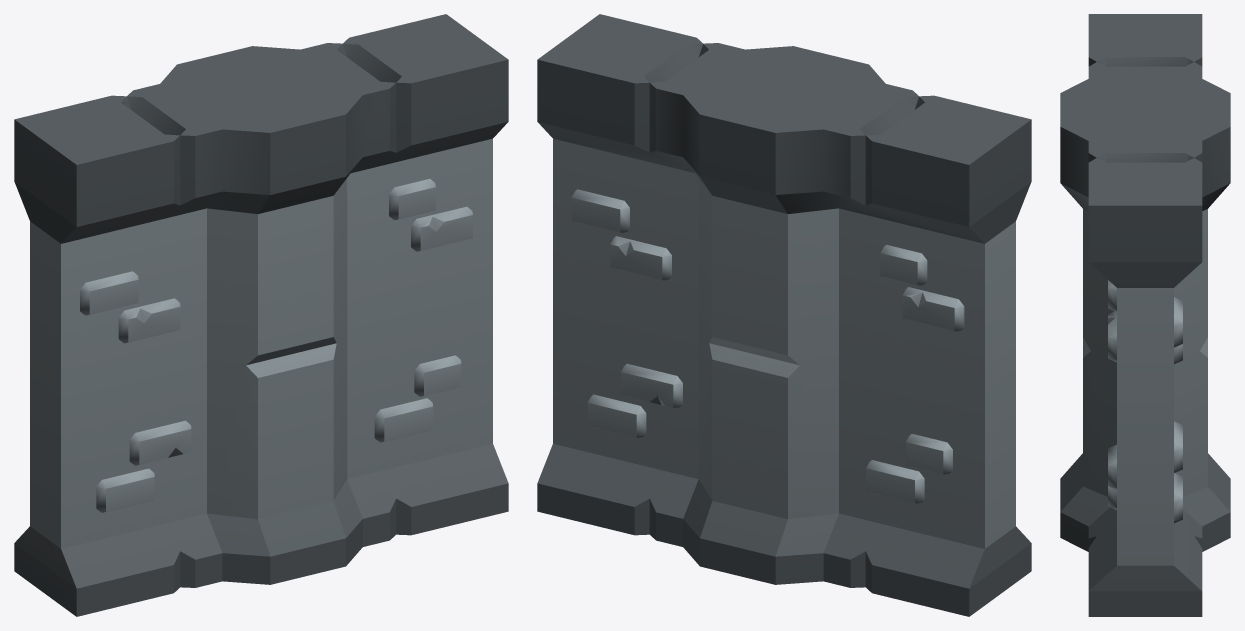
The model's file is wall_pillar.glb.
3 views of the same model, side by side, from view 1: azimuth 30°, elevation 25°; view 2: azimuth 150°, elevation 25°; view 3: azimuth 270°, elevation 25° (orthographic). The views are drawn at different scales.
Parts seen in each view (by area): view 1: wall_pillar; view 2: wall_pillar; view 3: wall_pillar.
Boxes of the visible parts, x1,y1,x2,y2 form: wall_pillar: [14, 14, 508, 616]; wall_pillar: [537, 14, 1031, 616]; wall_pillar: [1060, 14, 1230, 616].
Size of the model in its own units: 4 by 4 by 1.5.
1 material, 1 textured.
